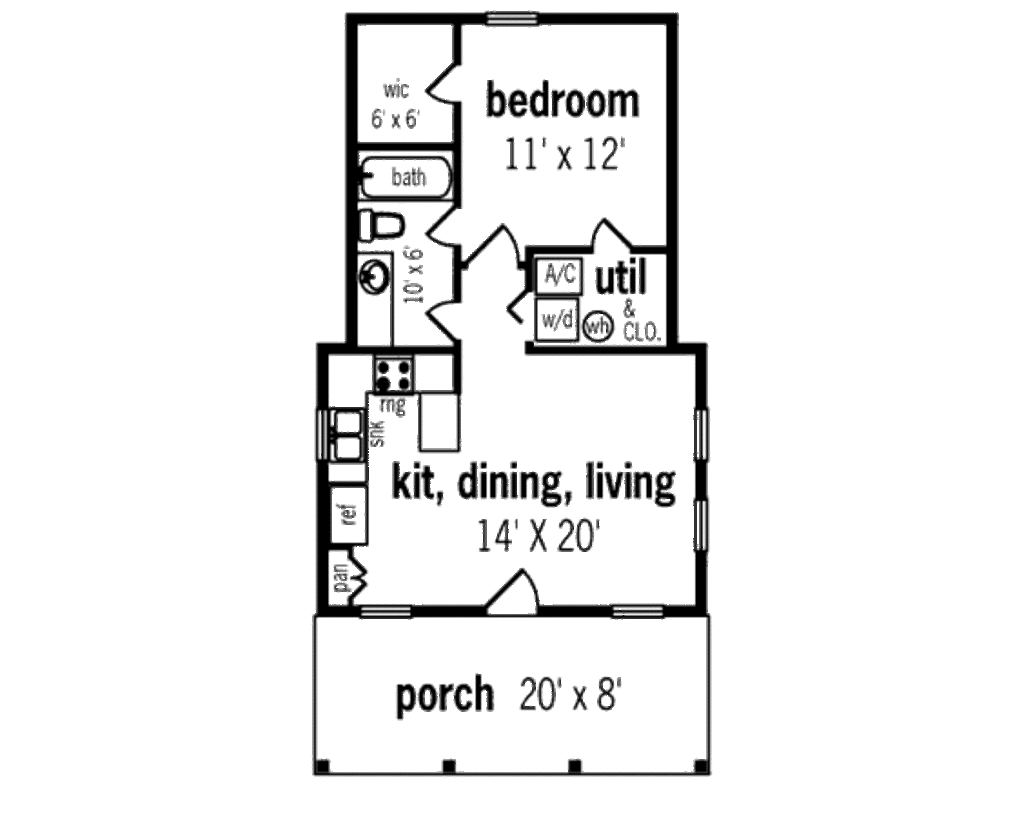door: (485, 571, 539, 621), (421, 58, 463, 113), (466, 222, 515, 268), (421, 297, 460, 345), (422, 207, 460, 250), (587, 218, 629, 254)
large_sink: (353, 204, 409, 250)
small_sink: (353, 252, 391, 308)
tub: (355, 145, 454, 201)
twin_sink: (329, 405, 367, 470)
windows: (686, 401, 713, 550), (605, 600, 667, 622), (483, 7, 541, 29), (355, 603, 415, 621)
